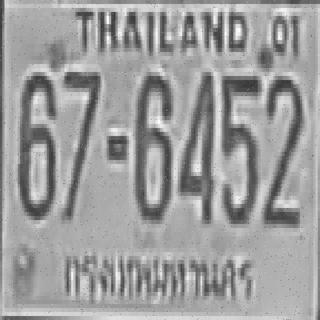N02: (262, 72, 302, 224)
N04: (178, 68, 213, 220)
N05: (220, 74, 258, 222)
N06: (133, 68, 171, 220), (16, 68, 54, 216)
N07: (61, 68, 99, 220)
P04: (57, 238, 260, 312)
